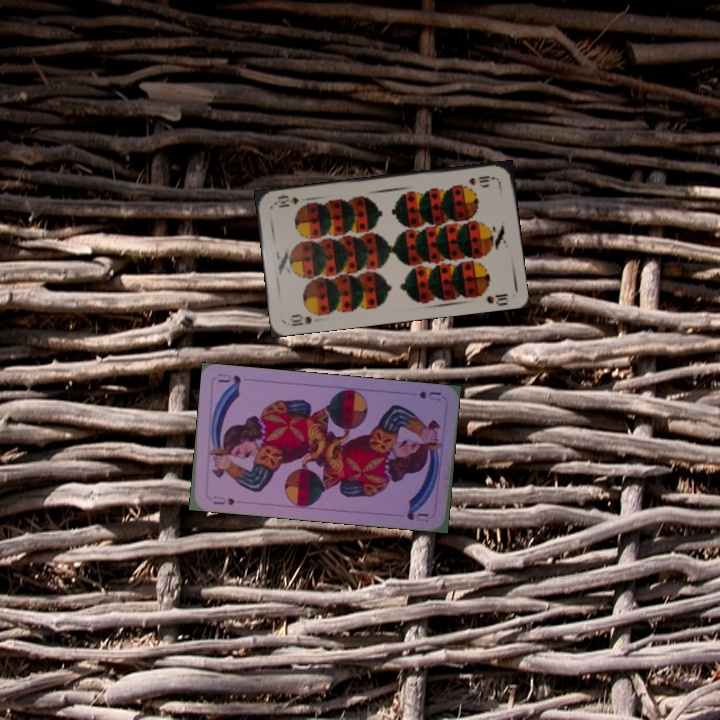S10: (286, 310, 314, 329), (465, 172, 497, 188)
SU: (415, 387, 444, 403), (209, 492, 237, 508)
